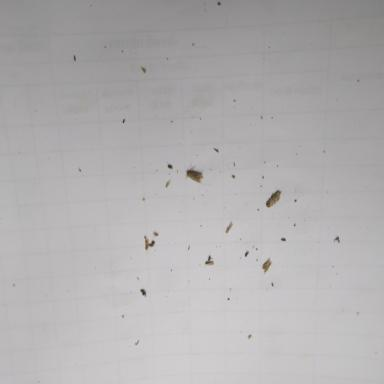pbw: (185, 165, 204, 184), (266, 190, 281, 207), (225, 222, 234, 233), (262, 259, 271, 269), (144, 236, 149, 250)
